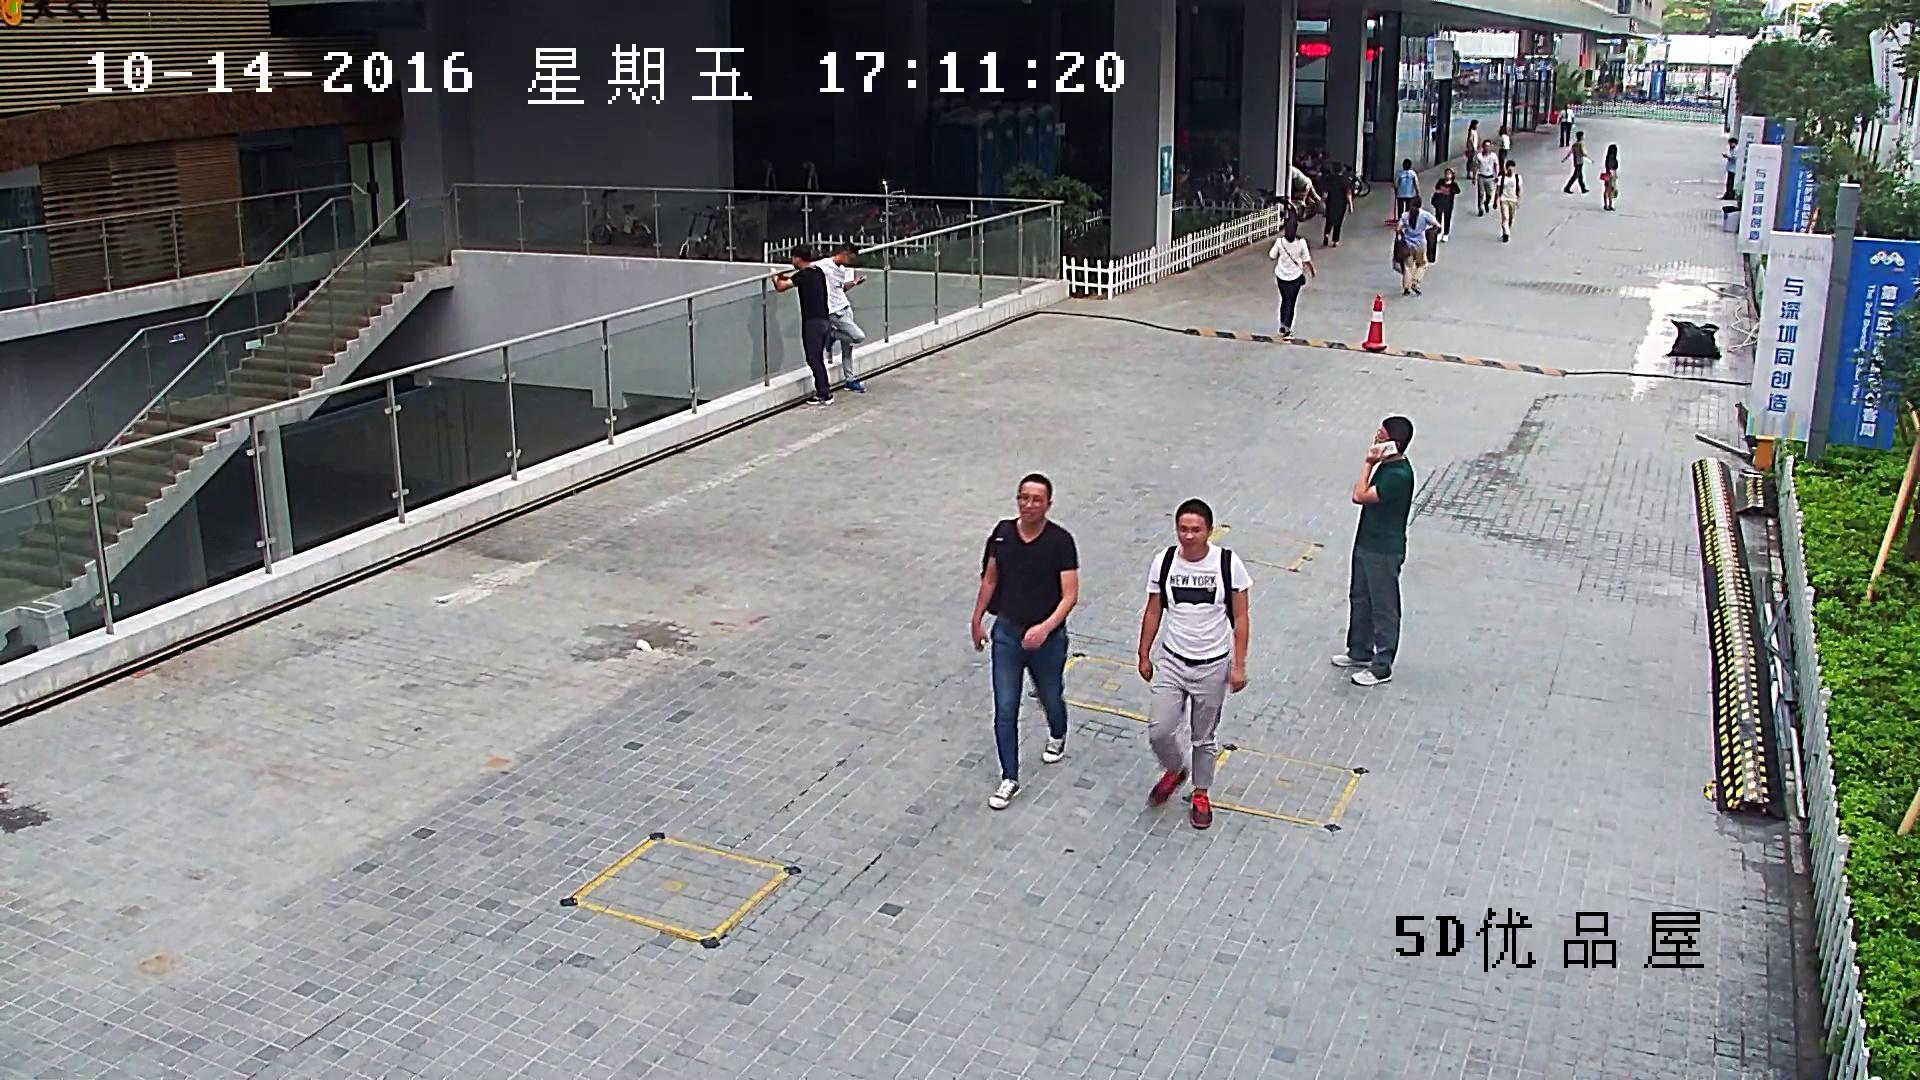person: (1138, 497, 1253, 828), (970, 472, 1081, 810), (1332, 416, 1414, 685), (769, 246, 835, 405), (812, 242, 866, 393), (1269, 221, 1314, 339), (1393, 197, 1439, 296), (1321, 160, 1354, 245), (1383, 158, 1420, 226), (1493, 159, 1523, 241), (1430, 168, 1459, 242), (1561, 129, 1594, 194), (1472, 139, 1498, 214), (1291, 164, 1326, 217), (1393, 158, 1422, 217), (1599, 143, 1619, 208), (1720, 138, 1738, 199), (1465, 119, 1478, 179), (1557, 101, 1575, 146), (1495, 127, 1509, 176)
